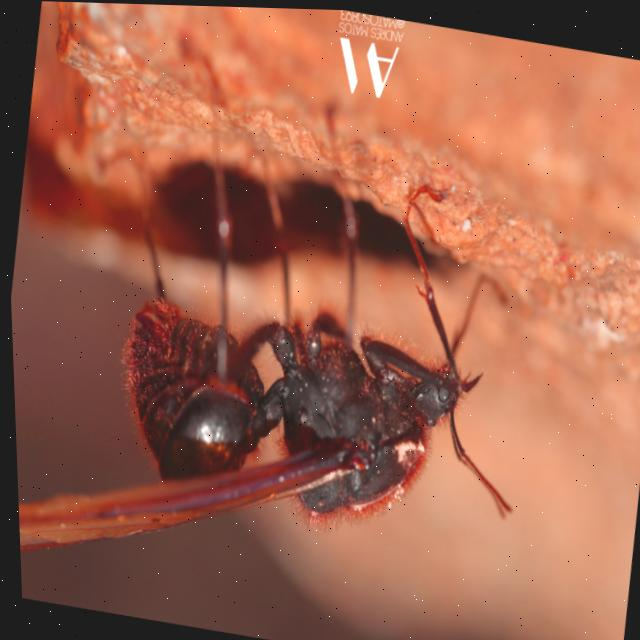Alive-Male-Alate: (0, 6, 572, 640)
